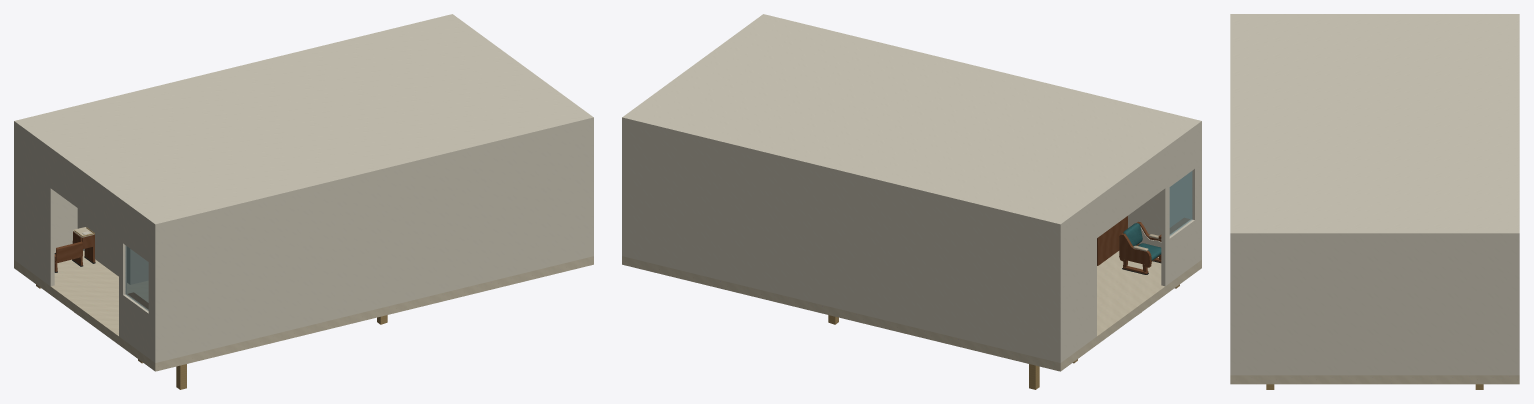
Rendered from NightGardenD15Specialty_500_r001.glb.
3 renders of one model, left to right at view 1: azimuth 30°, elevation 25°; view 2: azimuth 150°, elevation 25°; view 3: azimuth 270°, elevation 25°, orthographic. The views are drawn at different scales.
Visible parts, largest first — view 1: NG500_Ceiling, NG500_NorthSide, NG500_RoomFloor, NG500_EntryShoulderSouth, NG500_EntryHeader, NG500_StreetWindowLower, NG500_WashEntrySide, NG500_SouthSide, NG500_StreetWindowUpper, NG500_ScreenedStreetGlass; view 2: NG500_Ceiling, NG500_SouthSide, NG500_RoomFloor, NG500_EntryShoulderSouth, NG500_EntryHeader, NG500_NorthSide, NG500_StreetWindowLower, NG500_StreetWindowUpper, NG500_ScreenedStreetGlass, NG500_EntryPrivacyDogleg, NG500_DayReadingChair__DAY_CHAIR_R_swept_walnut_cheek; view 3: NG500_Ceiling, NG500_OpaqueRearBoundary, NG500_RoomFloor, NG500_NorthSide, NG500_SouthSide.
Boxes of the visible parts, x1=… form: NG500_Ceiling: x1=14, y1=14, x2=593, y2=229; NG500_NorthSide: x1=153, y1=123, x2=593, y2=362; NG500_RoomFloor: x1=14, y1=250, x2=593, y2=371; NG500_EntryShoulderSouth: x1=16, y1=128, x2=54, y2=286; NG500_EntryHeader: x1=49, y1=152, x2=119, y2=238; NG500_StreetWindowLower: x1=119, y1=292, x2=152, y2=360; NG500_WashEntrySide: x1=77, y1=208, x2=133, y2=284; NG500_SouthSide: x1=14, y1=127, x2=77, y2=260; NG500_StreetWindowUpper: x1=119, y1=204, x2=152, y2=264; NG500_ScreenedStreetGlass: x1=125, y1=245, x2=148, y2=310; NG500_Ceiling: x1=622, y1=14, x2=1201, y2=229; NG500_SouthSide: x1=622, y1=123, x2=1062, y2=362; NG500_RoomFloor: x1=622, y1=251, x2=1201, y2=371; NG500_EntryShoulderSouth: x1=1063, y1=203, x2=1096, y2=360; NG500_EntryHeader: x1=1096, y1=154, x2=1165, y2=237; NG500_NorthSide: x1=1128, y1=127, x2=1201, y2=260; NG500_StreetWindowLower: x1=1161, y1=217, x2=1199, y2=286; NG500_StreetWindowUpper: x1=1163, y1=128, x2=1199, y2=190; NG500_ScreenedStreetGlass: x1=1169, y1=171, x2=1192, y2=235; NG500_EntryPrivacyDogleg: x1=1097, y1=216, x2=1127, y2=265; NG500_DayReadingChair__DAY_CHAIR_R_swept_walnut_cheek: x1=1119, y1=233, x2=1151, y2=267; NG500_Ceiling: x1=1230, y1=14, x2=1519, y2=238; NG500_OpaqueRearBoundary: x1=1235, y1=239, x2=1514, y2=375; NG500_RoomFloor: x1=1230, y1=375, x2=1519, y2=384; NG500_NorthSide: x1=1230, y1=239, x2=1234, y2=375; NG500_SouthSide: x1=1515, y1=239, x2=1519, y2=375.
Size of the model in its own units: 12.9 by 5.31 by 7.2.
Materials: 67 (49 with a texture image).
